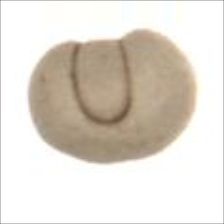L5: (67, 38, 136, 128)
L6: (25, 27, 200, 166)
